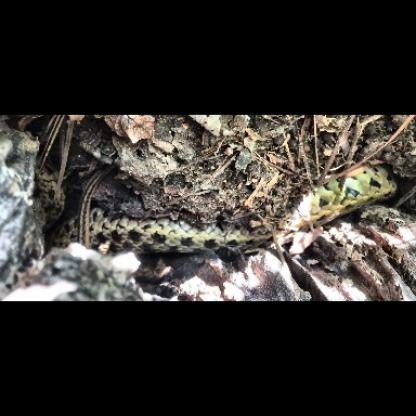Snake: (47, 153, 402, 251)
